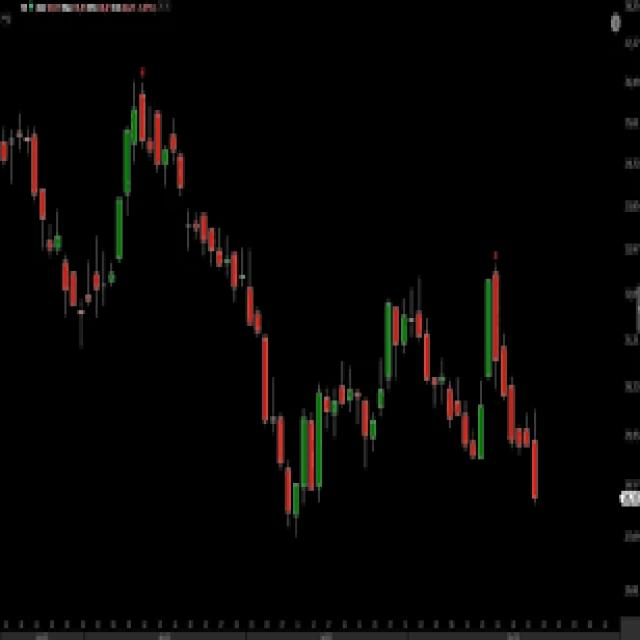topo_duplo: (0, 40, 208, 358)
